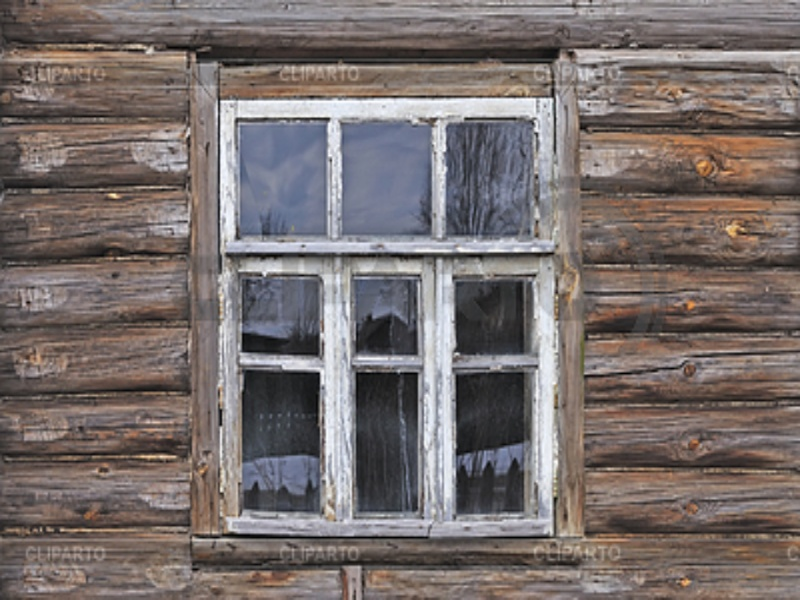window: (223, 98, 558, 531)
